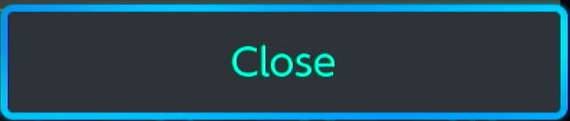close_button: (1, 3, 570, 121)
